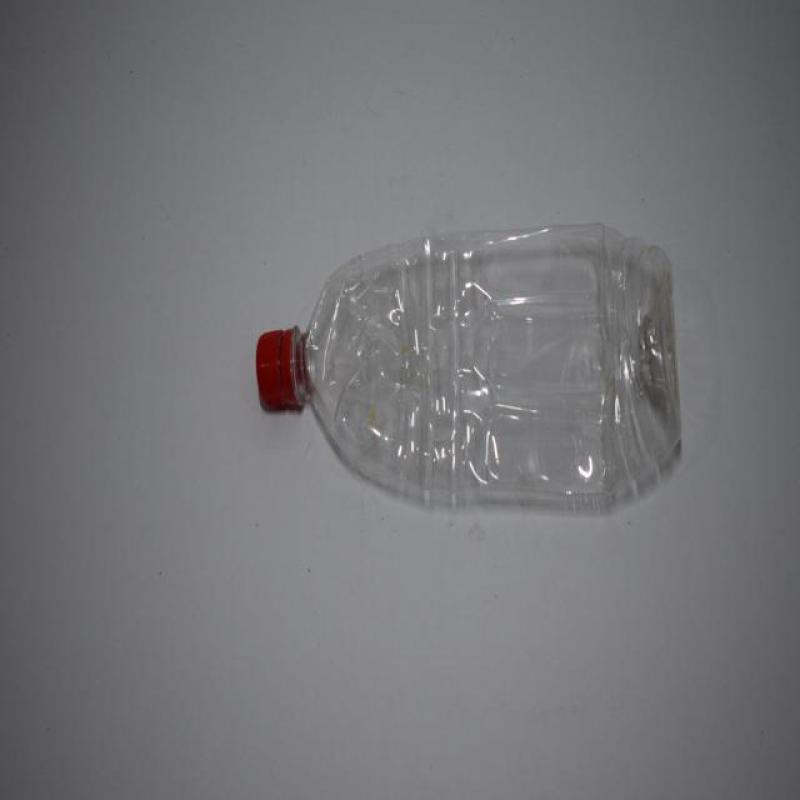botella: (258, 226, 684, 519)
